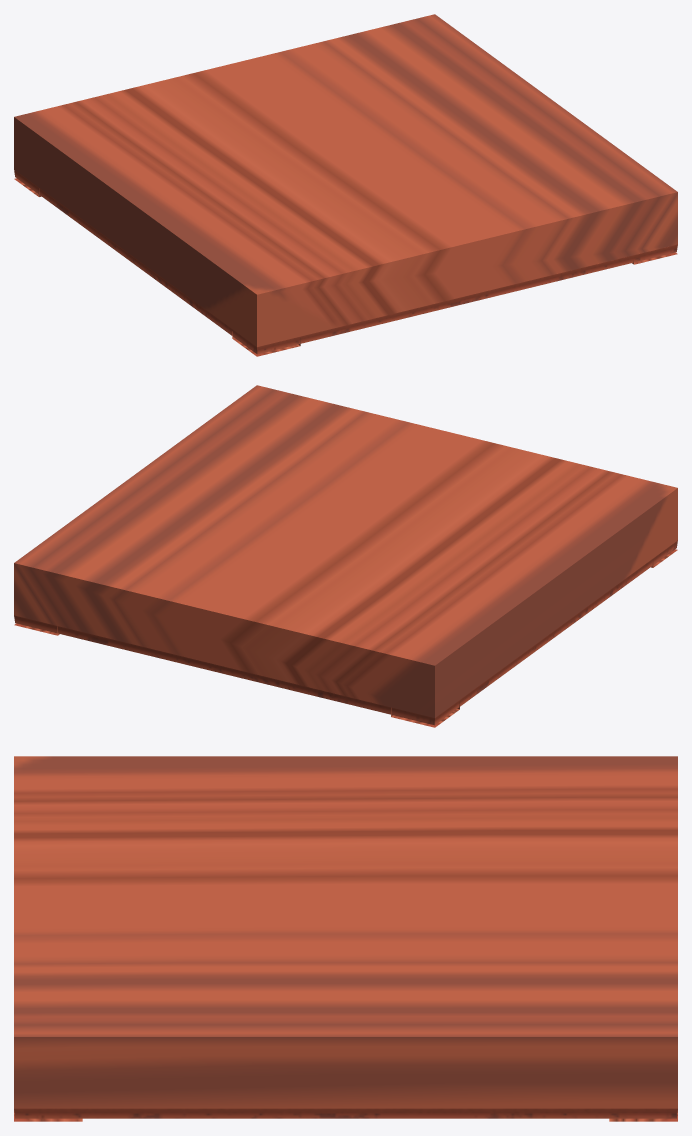
Rendered from MSH_Ceiling_01.FBX.
3 views of the same model, one above another, from view 1: azimuth 30°, elevation 25°; view 2: azimuth 150°, elevation 25°; view 3: azimuth 270°, elevation 25° (orthographic). The views are drawn at different scales.
Parts seen in each view (by area): view 1: MSH_Ceiling_01; view 2: MSH_Ceiling_01; view 3: MSH_Ceiling_01.
Boxes of the visible parts, left/top/right/bottom form: MSH_Ceiling_01: left=14, top=14, right=677, bottom=356; MSH_Ceiling_01: left=14, top=385, right=677, bottom=727; MSH_Ceiling_01: left=14, top=756, right=677, bottom=1121.
Size of what is drawn, in the model's own units: 180 by 180 by 25.35.
